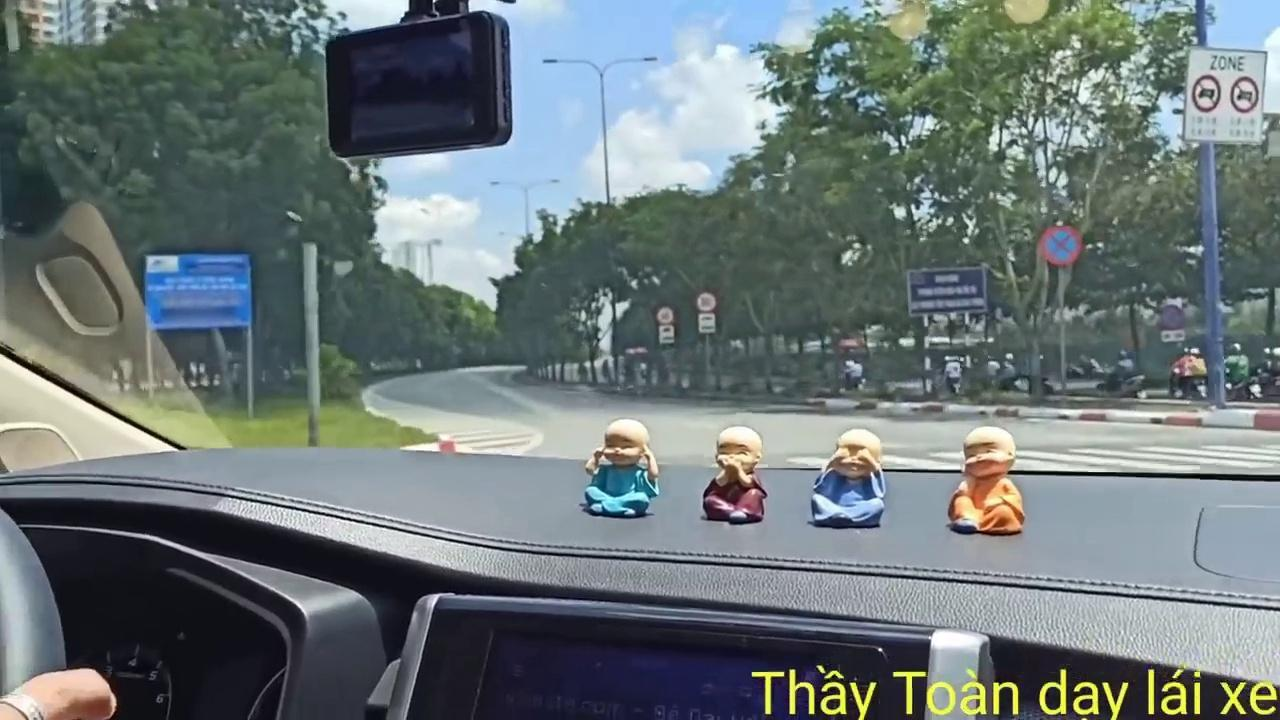Biển phụ: (699, 312, 717, 333), (658, 324, 675, 344)
Cấm cac phương tiện hoạt động trong khung giờ cố định: (1183, 43, 1264, 148)
Cấm dừng - Cấm đỗ: (1036, 223, 1081, 267)
Khác: (142, 251, 251, 329)
